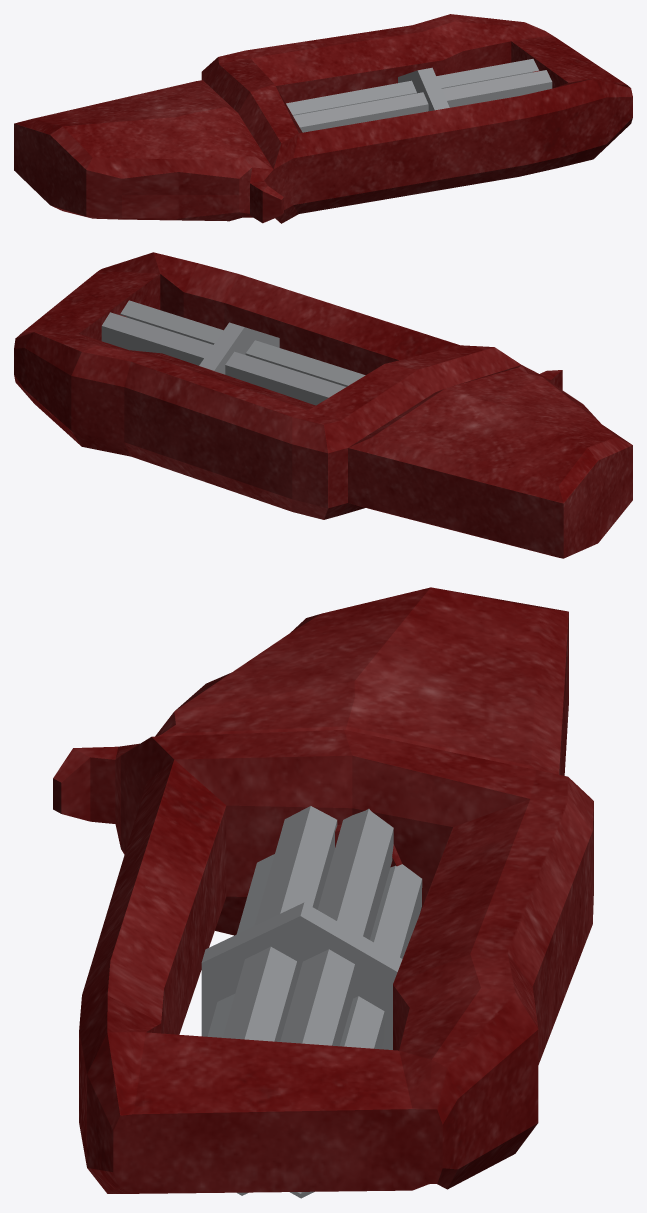
File: ROTARRY RECIVEWR.fbx
3 renders of one model, top to bottom at view 1: azimuth 30°, elevation 25°; view 2: azimuth 150°, elevation 25°; view 3: azimuth 270°, elevation 25°, orthographic. The views are drawn at different scales.
Parts seen in each view (by area): view 1: receiver_Rotary; view 2: receiver_Rotary; view 3: receiver_Rotary.
Part boxes in pixels (x1,y1,x2,y2): receiver_Rotary: [14, 14, 632, 223]; receiver_Rotary: [14, 252, 632, 558]; receiver_Rotary: [53, 587, 593, 1198].
Bounding box in the file's own units: 220 × 47.3 × 102.
